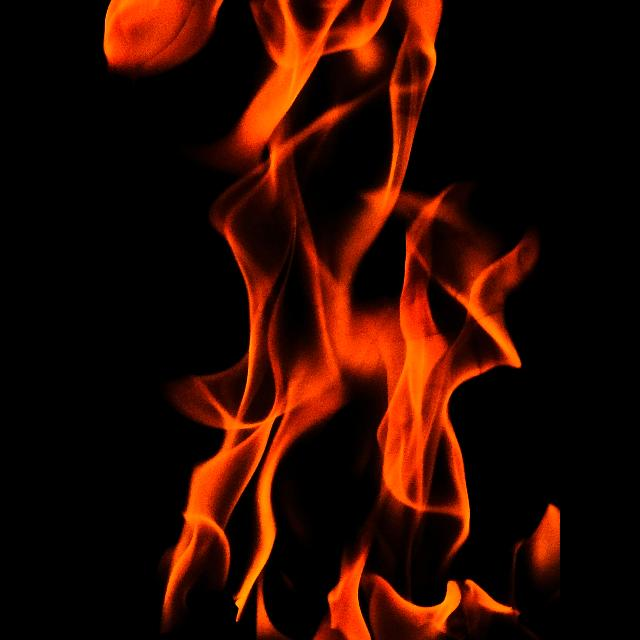fire: (162, 0, 538, 640)
